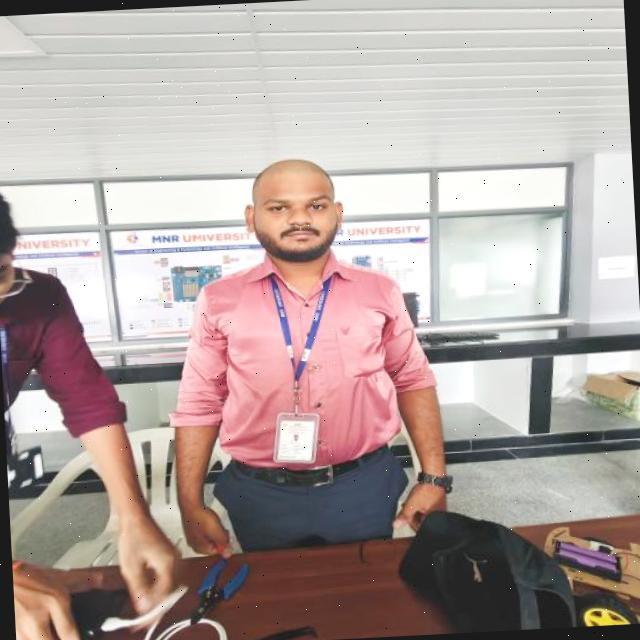Card: (274, 414, 319, 463)
Id strap: (270, 275, 331, 383)
